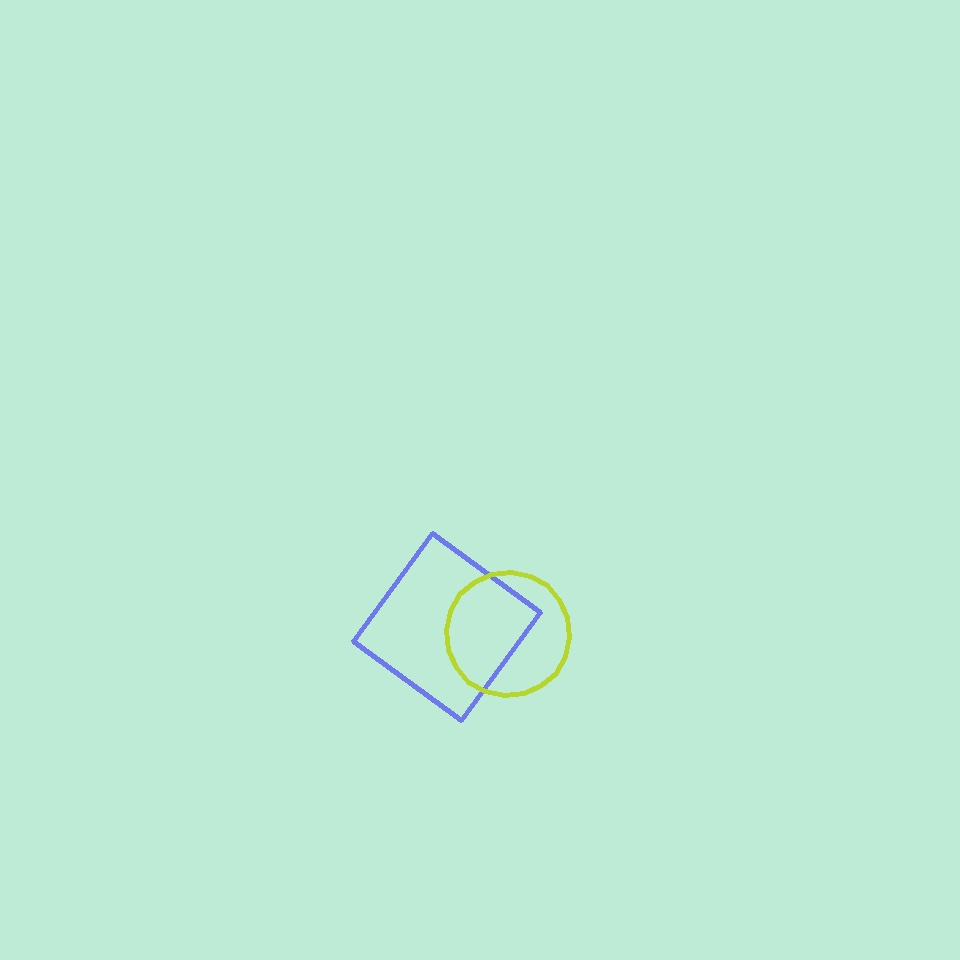square: (354, 534, 540, 720)
triangle: (446, 572, 570, 696)
